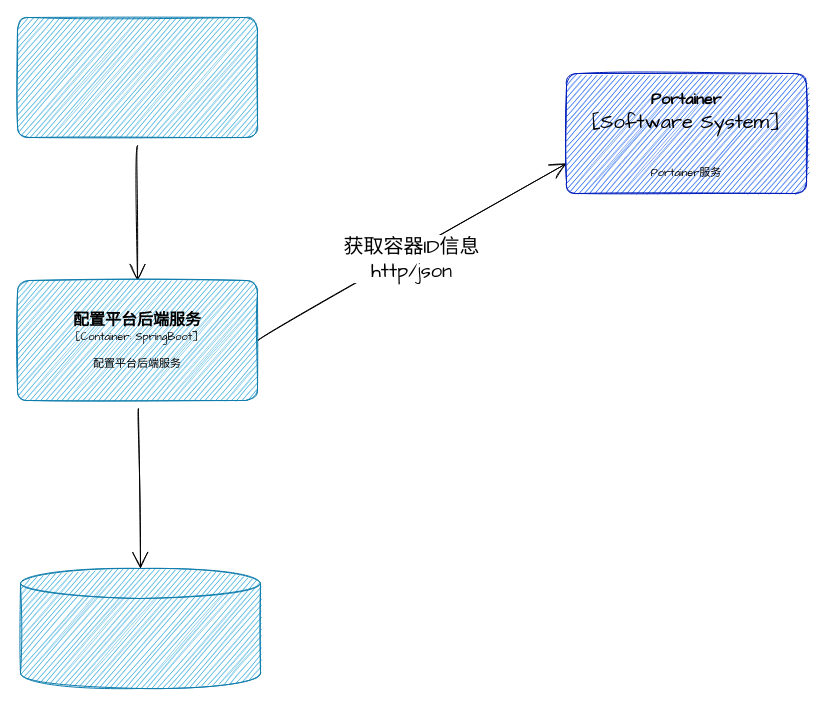
Some shapes in this 824 by 706 pixel diagram are drawn without their labels. Each missing label, with the centre of its shape:
数据库服务 [Container : PostGrell] 业务存储数据库: point 140,628
配置平台web服务 [Container: react] 配置平台前端服务: point 137,77
